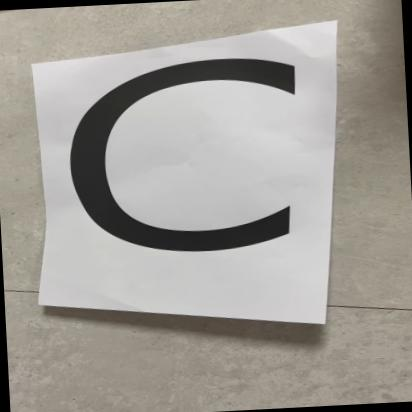seat: (47, 13, 374, 354)
